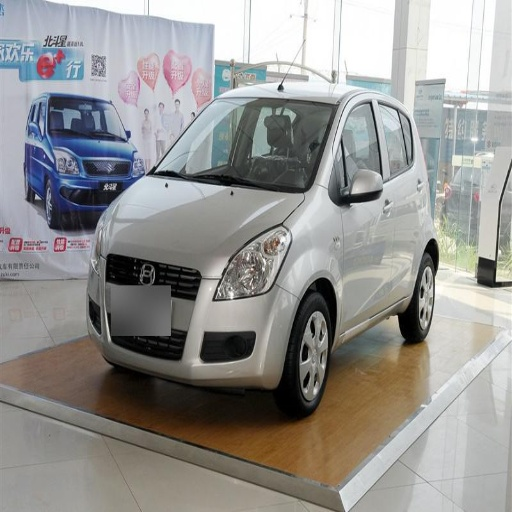front_bumper: (96, 253, 299, 387)
front_glass: (150, 100, 335, 192)
front_left_door: (335, 96, 394, 329)
